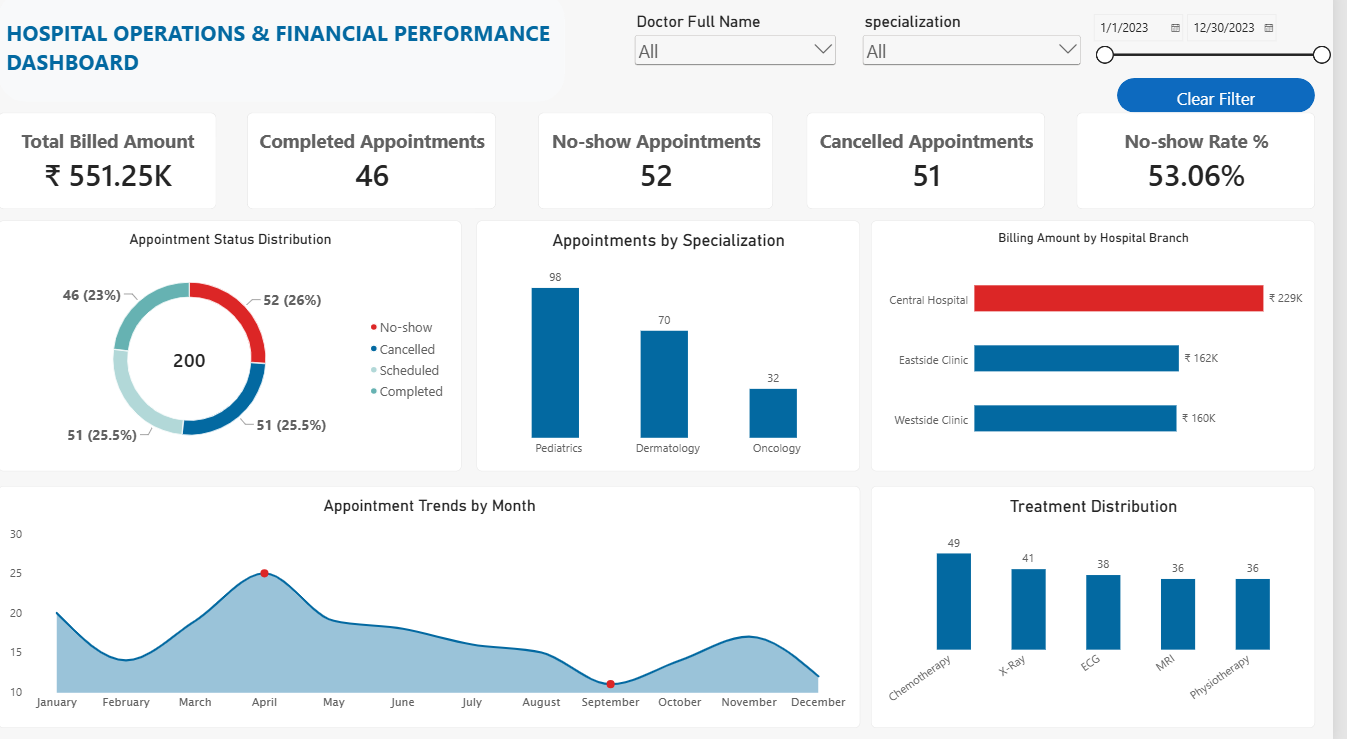

What the dashboard file says about the page in this screenshot:
{"tool":"powerbi","page":{"name":"Hospital Overview","canvas":[1920,1080],"ordinal":0},"visuals":[{"type":"cardVisual","fields":{"Data":["Measure Table.Total Billed Amount"]},"box":[0,174.9,314.9,140],"z":0},{"type":"shape","box":[0,0,815.4,159.6],"z":1},{"type":"cardVisual","fields":{"Data":["Measure Table.Completed Appointments"]},"box":[358.6,174.9,358.6,140],"z":2},{"type":"cardVisual","fields":{"Data":["Measure Table.No-show Appointments"]},"box":[776.3,174.9,339,140],"z":3},{"type":"cardVisual","fields":{"Data":["Measure Table.Cancelled Appointments"]},"box":[1163.4,174.9,343.3,140],"z":4},{"type":"cardVisual","fields":{"Data":["Measure Table.No-show Rate %"]},"box":[1550.4,174.9,343.3,140],"z":5},{"type":"donutChart","title":"Appointment Status Distribution","fields":{"Category":["appointments.status"],"Y":["CountNonNull(appointments.appointment_id)"]},"box":[0,330.2,667,360.8],"z":6},{"type":"lineChart","title":"Appointment Trends by Month","fields":{"Category":["appointments.appointment_date.Variation.Date Hierarchy.Month","appointments.appointment_date.Variation.Date Hierarchy.Day"],"Y":["CountNonNull(appointments.appointment_id)"]},"box":[0,712.9,1239.9,347.7],"z":7},{"type":"clusteredColumnChart","title":"Appointments by Specialization","fields":{"Category":["doctors.specialization"],"Y":["CountNonNull(appointments.appointment_id)"]},"box":[688.8,330.2,551.1,360.8],"z":8},{"type":"clusteredBarChart","title":"Billing Amount by Hospital Branch","fields":{"Category":["doctors.hospital_branch"],"Y":["Sum(billing.amount)"]},"box":[1255.2,330.2,638.5,360.8],"z":9},{"type":"clusteredColumnChart","title":"Treatment Distribution","fields":{"Category":["treatments.treatment_type"],"Y":["CountNonNull(treatments.treatment_id)"]},"box":[1255.2,712.9,638.5,347.7],"z":10},{"type":"slicer","fields":{"Values":["appointments.appointment_date"]},"box":[1568.3,28,351.6,97.1],"z":11},{"type":"slicer","fields":{"Values":["doctors.Doctor Full Name"]},"box":[910.3,30.2,299.6,96.2],"z":12},{"type":"slicer","fields":{"Values":["doctors.specialization"]},"box":[1238.2,30.2,323.6,96.2],"z":13},{"type":"actionButton","box":[1609.2,125.1,284.7,49.6],"z":14}]}

Visuals, with their boxes in screenshot pixels (x1, y1, x2, y2), scaled from the page's 1920x1080 canvas onto the 1347x739 screenshot:
cardVisual - Measure Table.Total Billed Amount: {"x1": 0, "y1": 120, "x2": 221, "y2": 215}
shape: {"x1": 0, "y1": 0, "x2": 572, "y2": 109}
cardVisual - Measure Table.Completed Appointments: {"x1": 252, "y1": 120, "x2": 503, "y2": 215}
cardVisual - Measure Table.No-show Appointments: {"x1": 545, "y1": 120, "x2": 782, "y2": 215}
cardVisual - Measure Table.Cancelled Appointments: {"x1": 816, "y1": 120, "x2": 1057, "y2": 215}
cardVisual - Measure Table.No-show Rate %: {"x1": 1088, "y1": 120, "x2": 1329, "y2": 215}
"Appointment Status Distribution" donutChart: {"x1": 0, "y1": 226, "x2": 468, "y2": 473}
"Appointment Trends by Month" lineChart: {"x1": 0, "y1": 488, "x2": 870, "y2": 726}
"Appointments by Specialization" clusteredColumnChart: {"x1": 483, "y1": 226, "x2": 870, "y2": 473}
"Billing Amount by Hospital Branch" clusteredBarChart: {"x1": 881, "y1": 226, "x2": 1329, "y2": 473}
"Treatment Distribution" clusteredColumnChart: {"x1": 881, "y1": 488, "x2": 1329, "y2": 726}
slicer - appointments.appointment_date: {"x1": 1100, "y1": 19, "x2": 1346, "y2": 86}
slicer - doctors.Doctor Full Name: {"x1": 639, "y1": 21, "x2": 849, "y2": 86}
slicer - doctors.specialization: {"x1": 869, "y1": 21, "x2": 1096, "y2": 86}
actionButton: {"x1": 1129, "y1": 86, "x2": 1329, "y2": 120}
